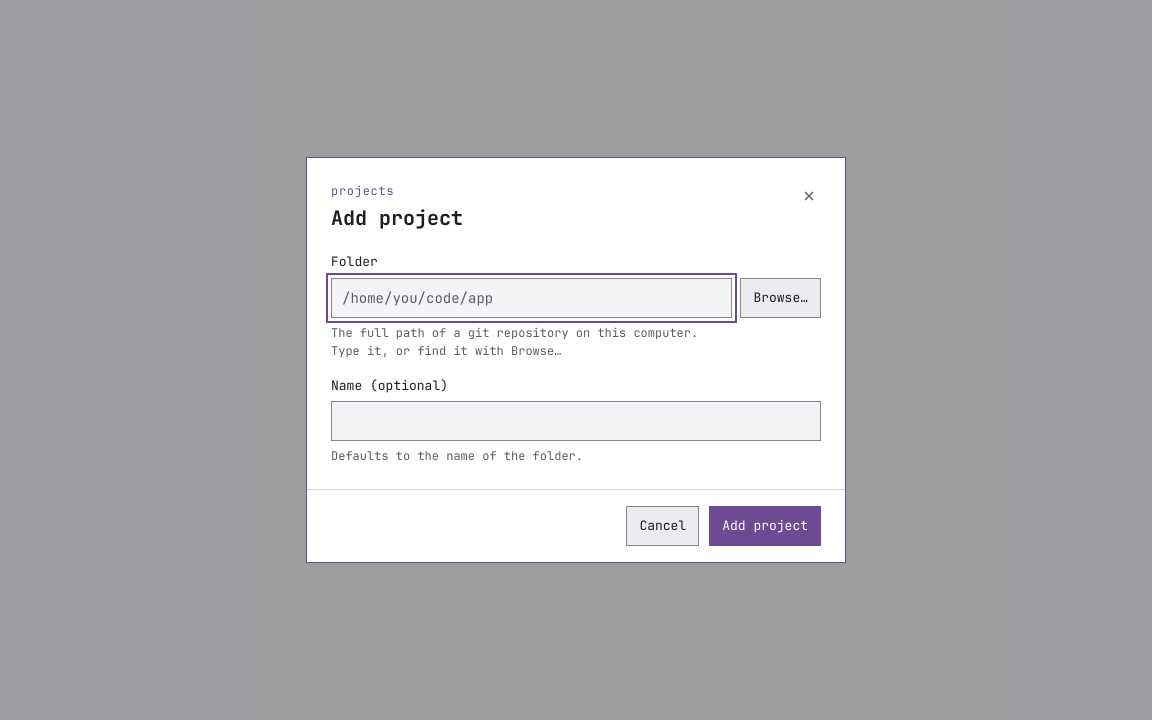
the server's answer for a folder that is not a repository is shown under the field and the text stays
Type "/work/plain" into the field named "path" at x=532, y=298, box [331, 278, 732, 318]
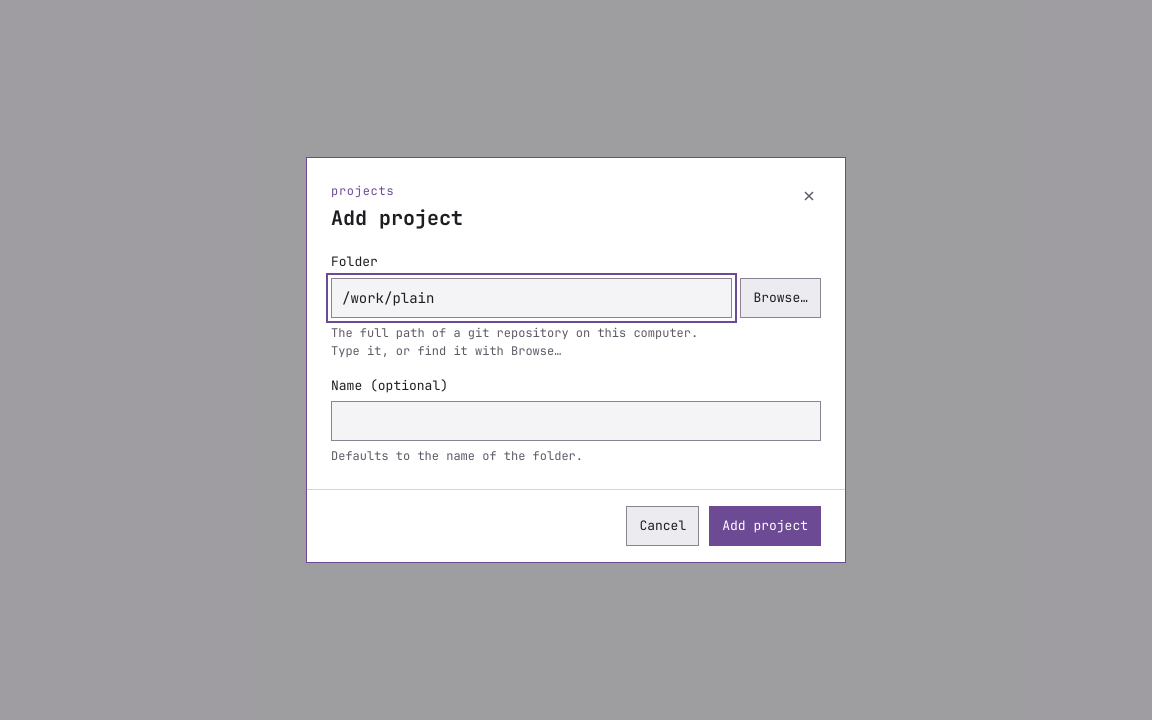
Submit the form, box [331, 252, 821, 465]
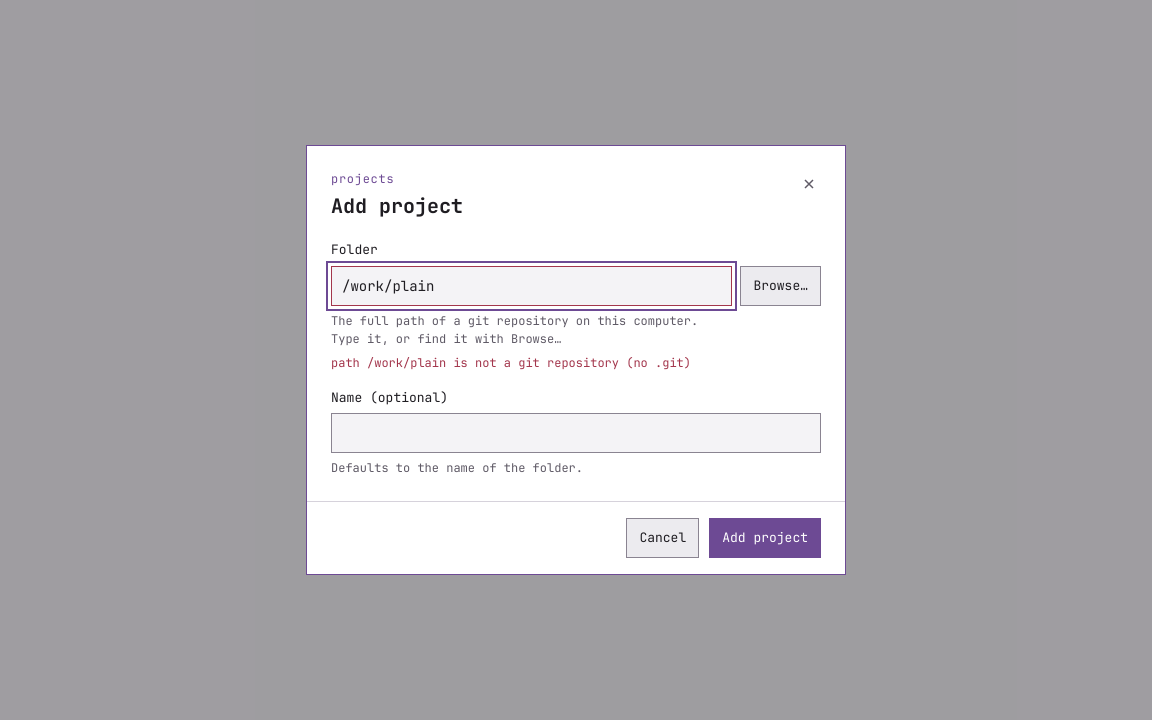
Expected: the submit button is enabled, [709, 518, 821, 558]
Expected: the text with class "omo-field__error" reads "path /work/plain is not a git repository (no .git)", [331, 354, 691, 370]
